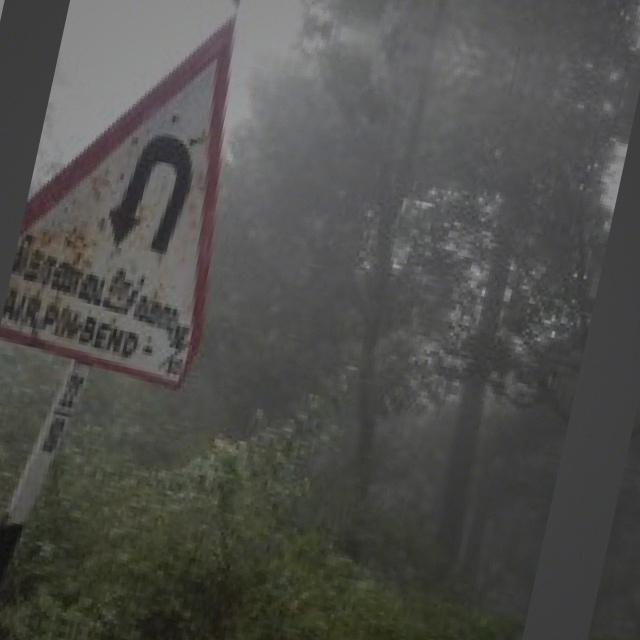Left_Hair_Pin_Bend: (65, 79, 260, 303)
